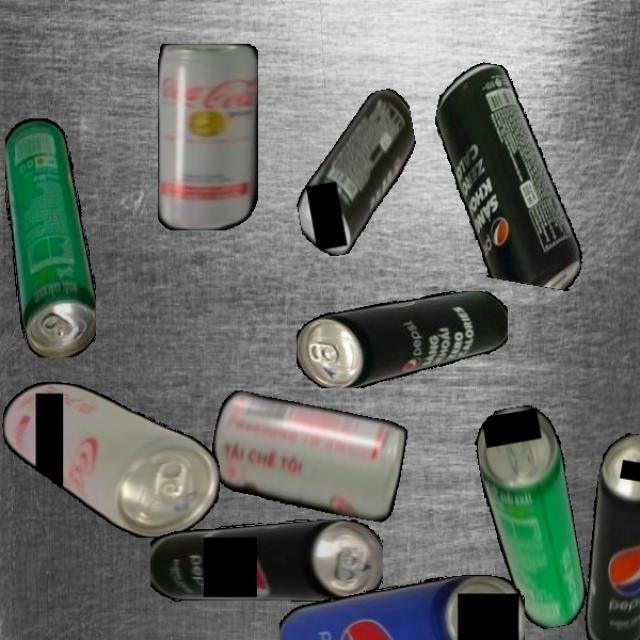debris: (411, 57, 612, 292), (1, 382, 220, 537), (470, 401, 592, 635), (204, 388, 410, 524), (281, 87, 432, 260), (4, 118, 96, 358), (296, 290, 508, 388), (149, 520, 383, 602), (158, 43, 258, 230), (278, 575, 525, 640), (570, 430, 640, 640)
